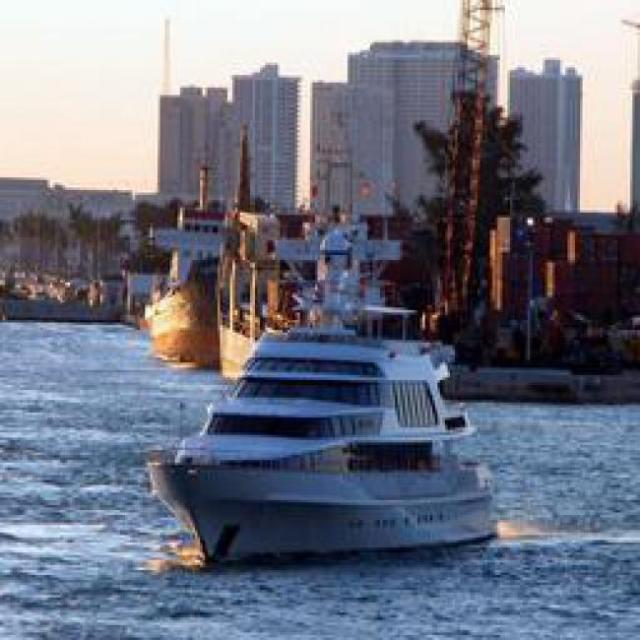boat: (144, 312, 525, 573)
